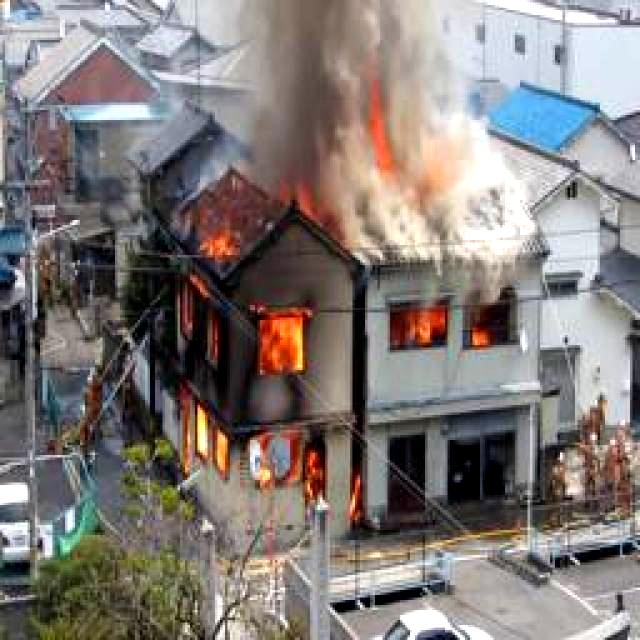fire: (151, 184, 329, 503), (362, 109, 454, 200), (386, 300, 518, 348)
